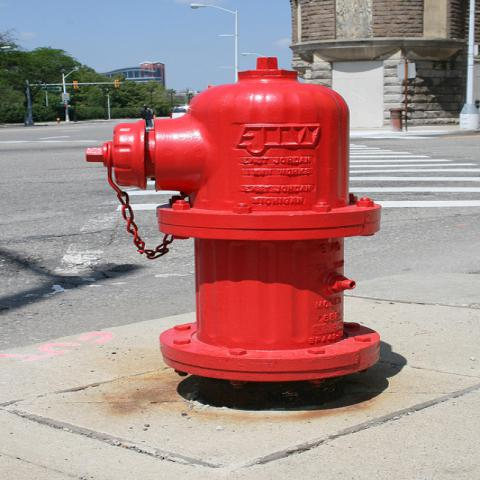car: (169, 104, 186, 119)
